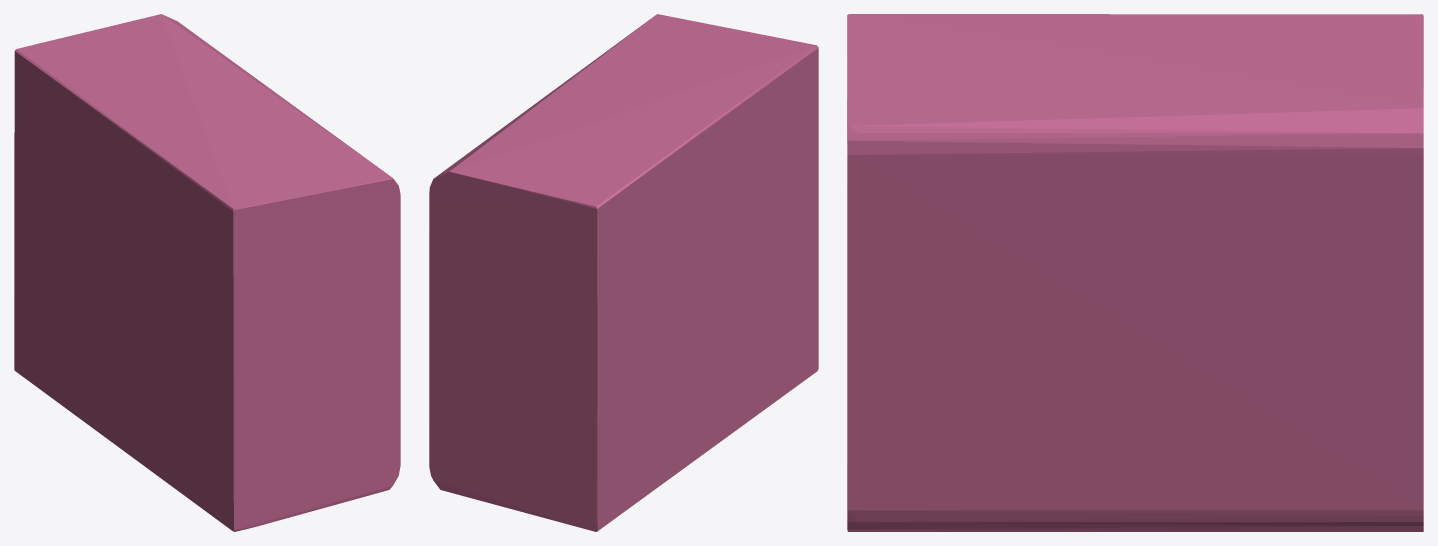
The model's file is fixture_trashBin_wallMounted_a01.glb.
3 views of the same model, side by side, from view 1: azimuth 30°, elevation 25°; view 2: azimuth 150°, elevation 25°; view 3: azimuth 270°, elevation 25° (orthographic). The views are drawn at different scales.
Parts seen in each view (by area): view 1: geometry_0; view 2: geometry_0; view 3: geometry_0.
Boxes of the visible parts, x1,y1,x2,y2 form: geometry_0: (14, 14, 400, 531); geometry_0: (429, 14, 818, 531); geometry_0: (847, 14, 1423, 531).
Size of the model in its own units: 0.2118 by 0.3899 by 0.48.
